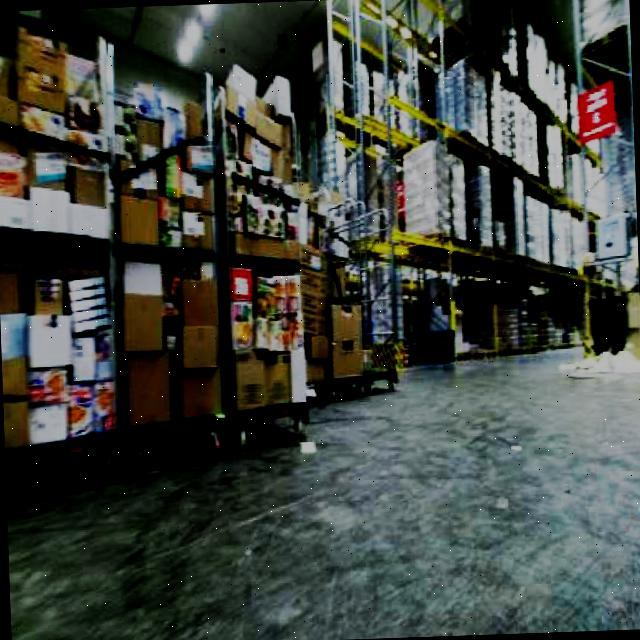ground: (1, 335, 640, 640)
pallet: (0, 7, 318, 505), (309, 0, 616, 303), (107, 71, 311, 472), (0, 18, 125, 505), (349, 217, 624, 363), (213, 75, 309, 450)
